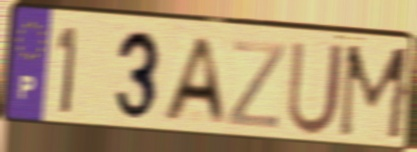1: (54, 24, 79, 119)
3: (113, 25, 162, 126)
A: (159, 36, 230, 128)
M: (335, 42, 414, 145)
U: (284, 38, 349, 139)
Z: (225, 37, 288, 132)
